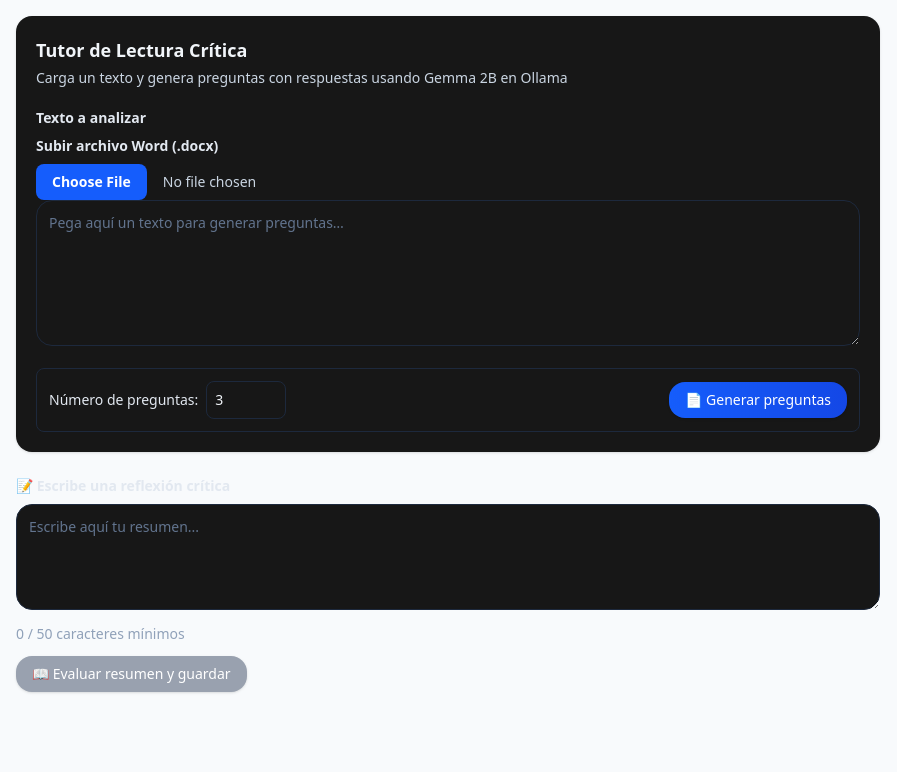
Test: ✅ Tutor Page - cobertura completa de flujos y errores › 2) Validación: intentar generar sin texto base
This screenshot has width=897, height=772.
Click en generar sin texto
Click the button "📄 Generar preguntas" at (758, 400), box 669,382 -> 847,418
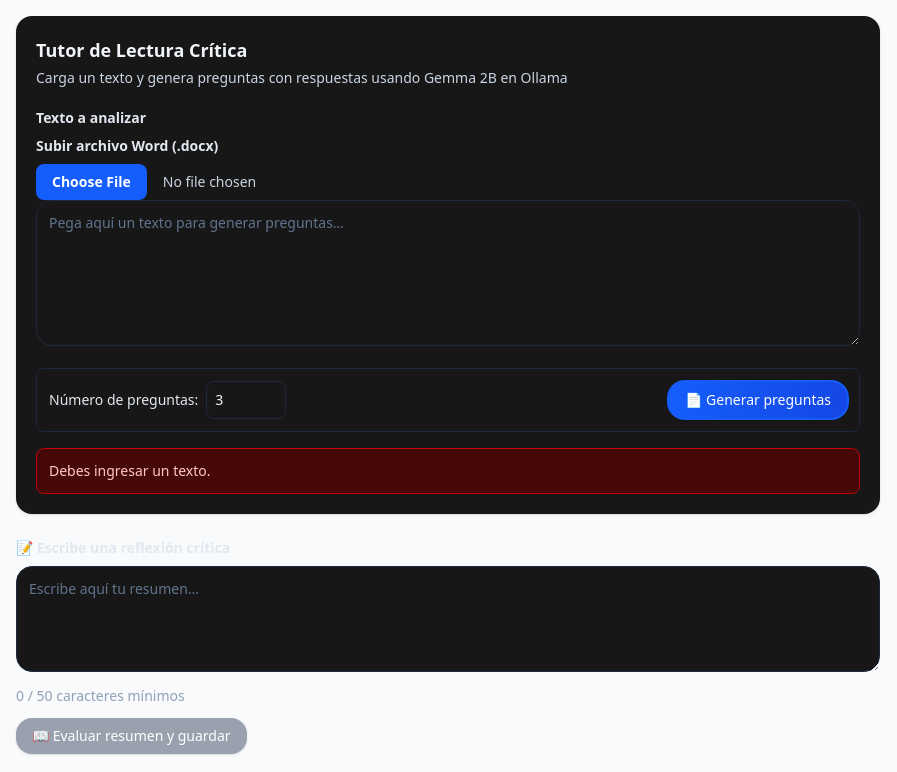
Now the text "Debes ingresar un texto." is shown, box 49,461 -> 210,480
